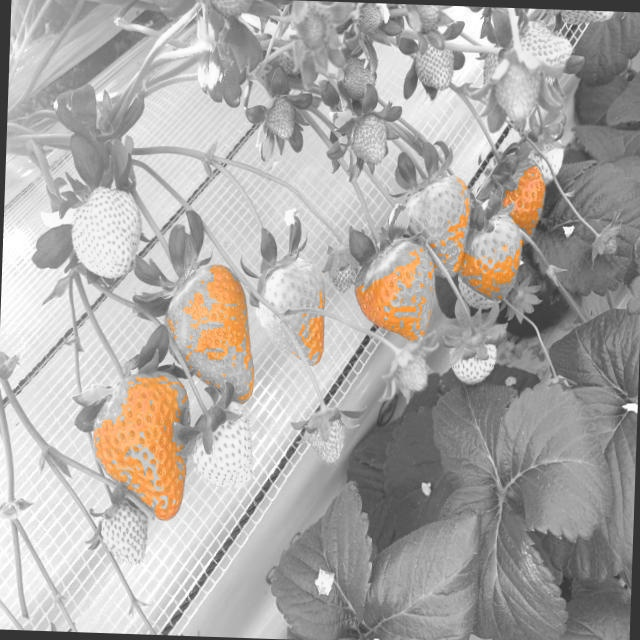ripe: (92, 364, 195, 520), (163, 258, 257, 408), (352, 238, 441, 338), (396, 174, 469, 274), (256, 262, 324, 368), (488, 148, 548, 240), (458, 212, 522, 298)
unripe: (66, 183, 148, 283), (187, 404, 254, 486), (485, 58, 539, 128), (518, 14, 570, 80), (296, 408, 348, 467), (94, 504, 146, 558), (448, 330, 494, 386), (256, 89, 300, 147), (412, 34, 452, 94), (346, 114, 394, 162), (332, 49, 376, 101), (384, 344, 428, 394), (292, 0, 332, 46), (345, 2, 387, 38)
